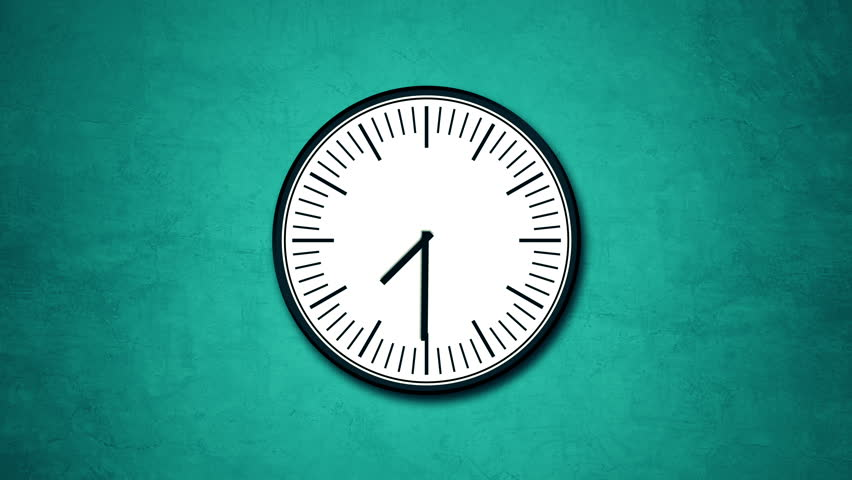clock: (285, 95, 574, 388)
